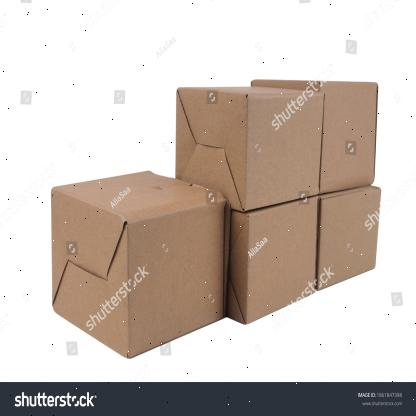box: (128, 197, 224, 359), (242, 92, 324, 213), (249, 195, 318, 325), (318, 82, 378, 197), (317, 189, 381, 290)
